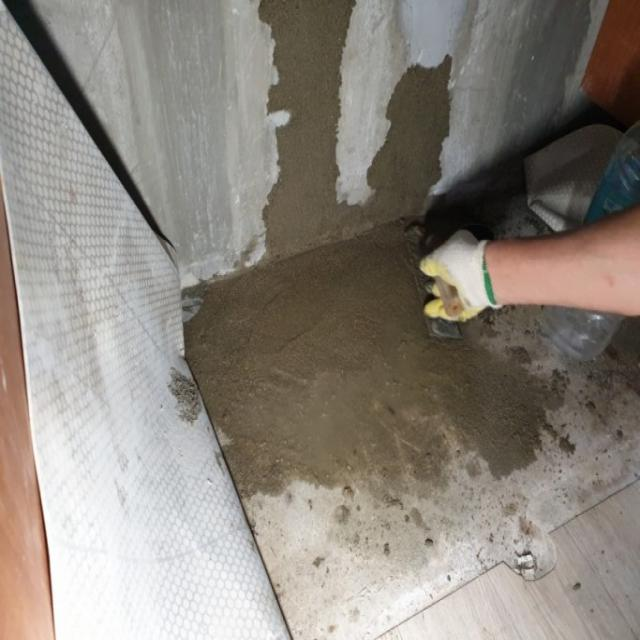Trowel: (403, 221, 463, 339)
